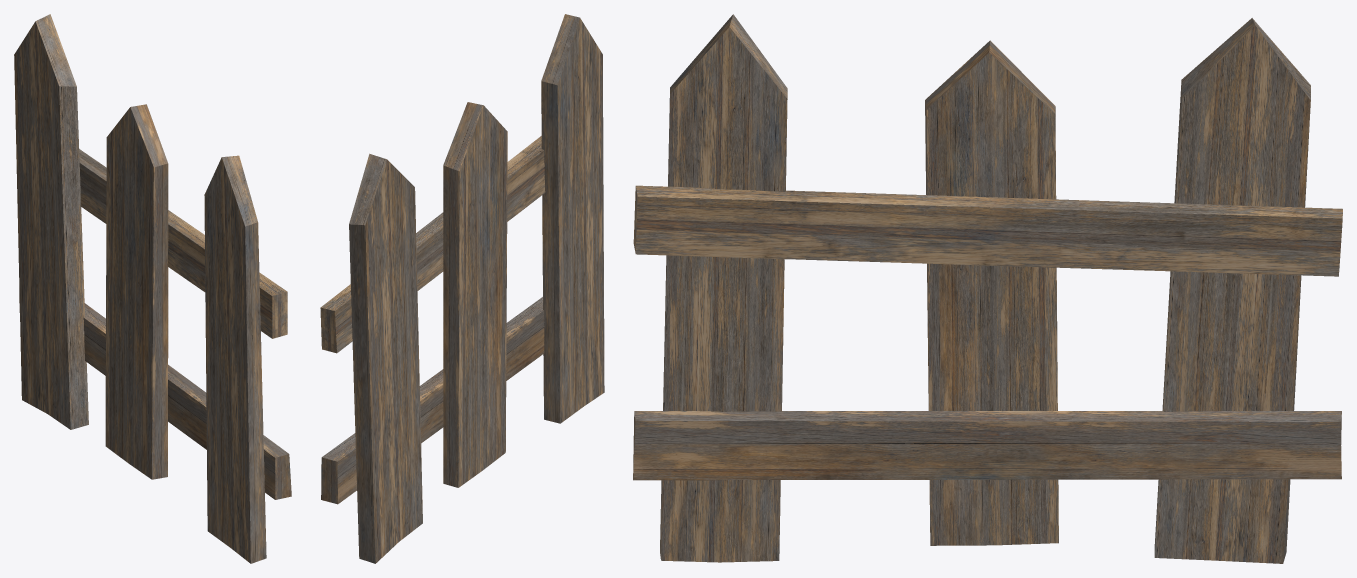
The model's file is Fence001.fbx.
3 views of the same model, side by side, from view 1: azimuth 30°, elevation 25°; view 2: azimuth 150°, elevation 25°; view 3: azimuth 270°, elevation 25° (orthographic). The views are drawn at different scales.
Parts seen in each view (by area): view 1: fence post.010, fence post.012, fence post.011, Cube.006, Cube.007; view 2: fence post.010, fence post.011, fence post.012, Cube.006, Cube.007; view 3: fence post.010, Cube.007, Cube.006, fence post.011, fence post.012.
Part boxes in pixels (left/top/right/bottom): fence post.010: left=14, top=14, right=88, bottom=429; fence post.012: left=105, top=104, right=168, bottom=479; fence post.011: left=204, top=155, right=266, bottom=563; Cube.006: left=79, top=149, right=287, bottom=338; Cube.007: left=19, top=292, right=291, bottom=499; fence post.010: left=349, top=153, right=422, bottom=563; fence post.011: left=541, top=14, right=604, bottom=423; fence post.012: left=443, top=102, right=507, bottom=487; Cube.006: left=320, top=136, right=545, bottom=353; Cube.007: left=321, top=297, right=544, bottom=504; fence post.010: left=1154, top=18, right=1310, bottom=563; Cube.007: left=633, top=411, right=1341, bottom=480; Cube.006: left=633, top=185, right=1342, bottom=276; fence post.011: left=660, top=14, right=787, bottom=562; fence post.012: left=925, top=40, right=1058, bottom=545.
Size of the model in its own units: 85.43 by 924 by 1104.
